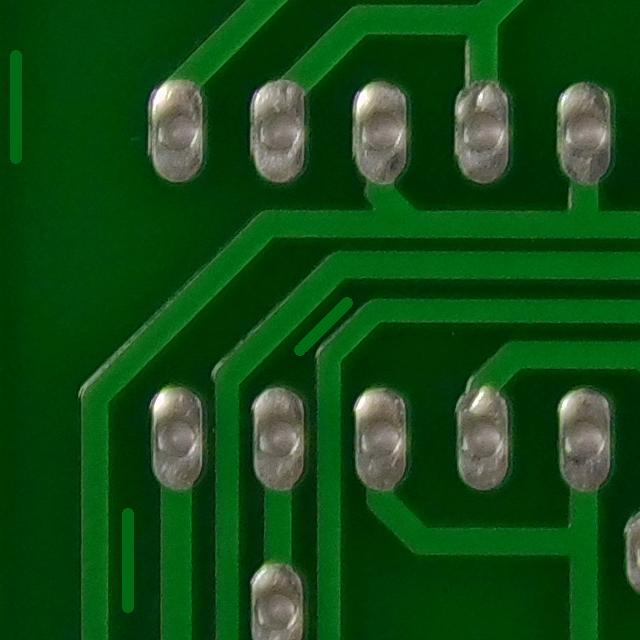spurious_copper: (275, 278, 365, 363)
